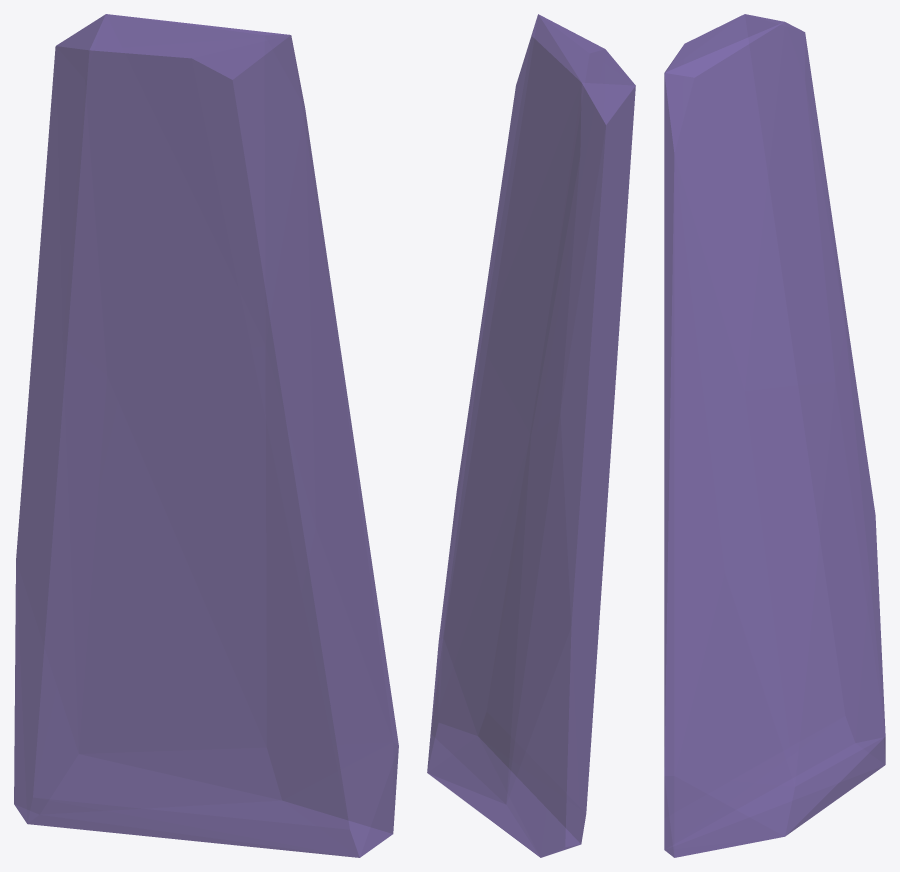
3 views of the same model, side by side, from view 1: azimuth 30°, elevation 25°; view 2: azimuth 150°, elevation 25°; view 3: azimuth 270°, elevation 25° (orthographic). The views are drawn at different scales.
Parts seen in each view (by area): view 1: Shape_IndexedFaceSet.012_Shape_IndexedFaceSet.11804; view 2: Shape_IndexedFaceSet.012_Shape_IndexedFaceSet.11804; view 3: Shape_IndexedFaceSet.012_Shape_IndexedFaceSet.11804.
Part boxes in pixels (x1,y1,x2,y2): Shape_IndexedFaceSet.012_Shape_IndexedFaceSet.11804: [14, 14, 398, 857]; Shape_IndexedFaceSet.012_Shape_IndexedFaceSet.11804: [427, 14, 635, 857]; Shape_IndexedFaceSet.012_Shape_IndexedFaceSet.11804: [664, 14, 885, 857].
Size of the model in its own units: 0.136 by 0.4129 by 0.1108.
